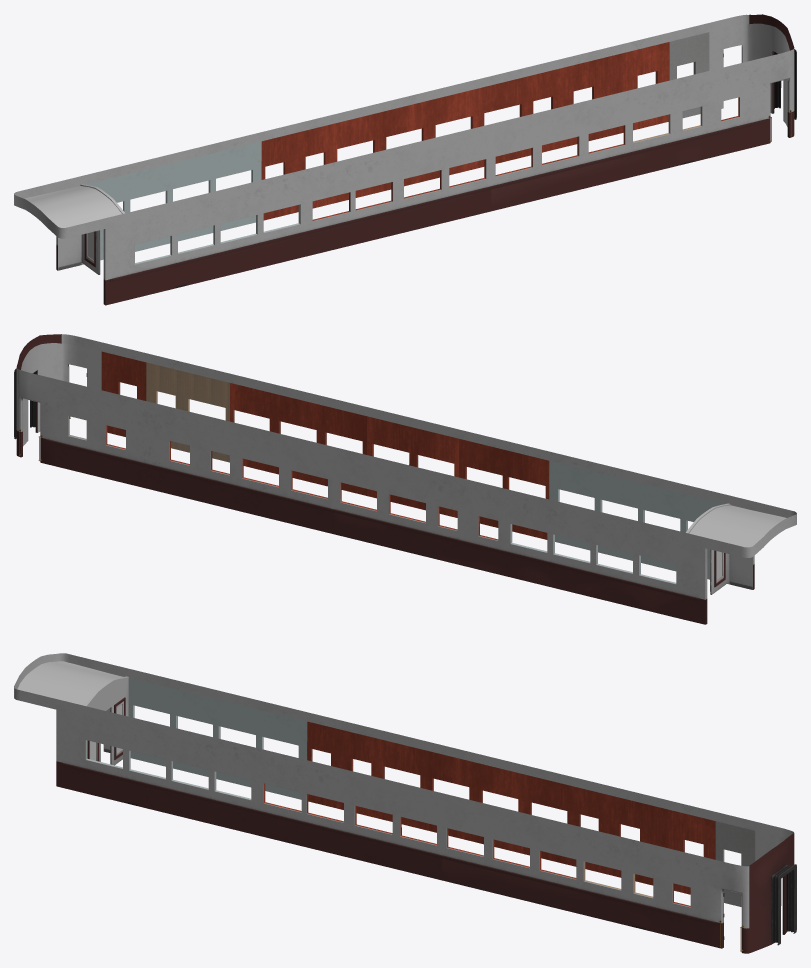
File: SM_White_Exterior.fbx
3 renders of one model, top to bottom at view 1: azimuth 30°, elevation 25°; view 2: azimuth 150°, elevation 25°; view 3: azimuth 330°, elevation 25°, orthographic.
Parts seen in each view (by area): view 1: SM_White_Exterior; view 2: SM_White_Exterior; view 3: SM_White_Exterior.
Part boxes in pixels (x1,y1,x2,y2): SM_White_Exterior: [14, 14, 796, 305]; SM_White_Exterior: [14, 334, 796, 624]; SM_White_Exterior: [14, 653, 796, 953].
Size of the model in its own units: 3025 by 360 by 366.
8 materials, 7 textured.
